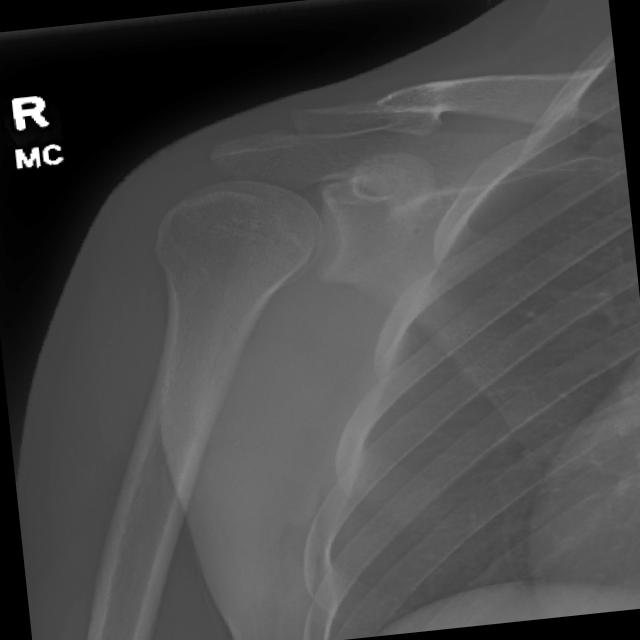shoulder fracture: (339, 63, 485, 165)
